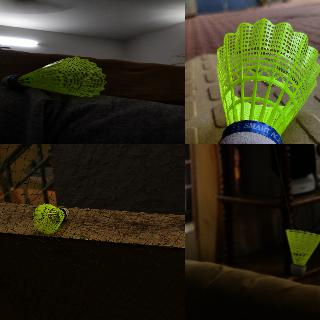shuttlecock: (216, 17, 319, 143), (3, 56, 106, 96), (285, 229, 319, 277), (33, 202, 69, 234)
